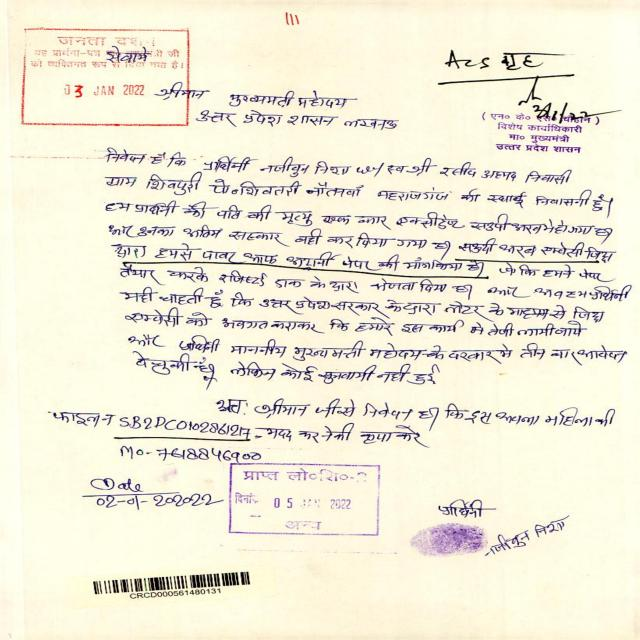antritgovtstamp: (221, 459, 386, 539), (409, 521, 493, 559)
barcode: (83, 569, 266, 602)
jantadarsan: (12, 22, 200, 129)
signnamestamp: (452, 76, 610, 162)
